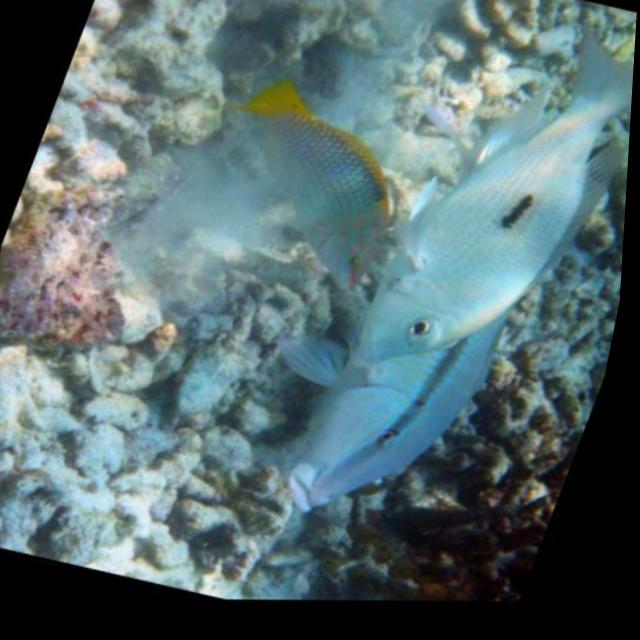Dead Coral: (0, 302, 331, 640), (352, 361, 605, 620), (25, 0, 256, 205)
